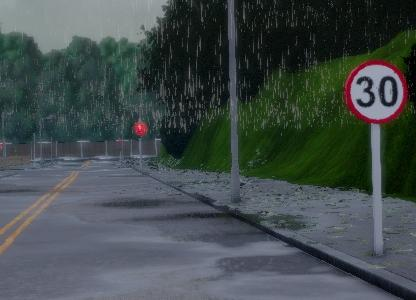Speed_30: (343, 60, 409, 129)
